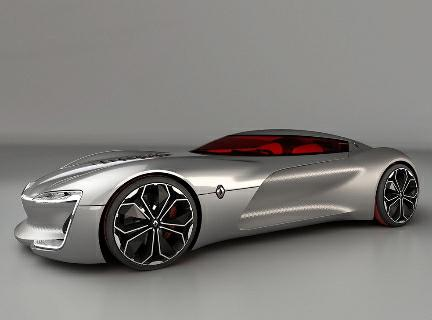雷诺-TREZOR: (12, 126, 423, 274)
